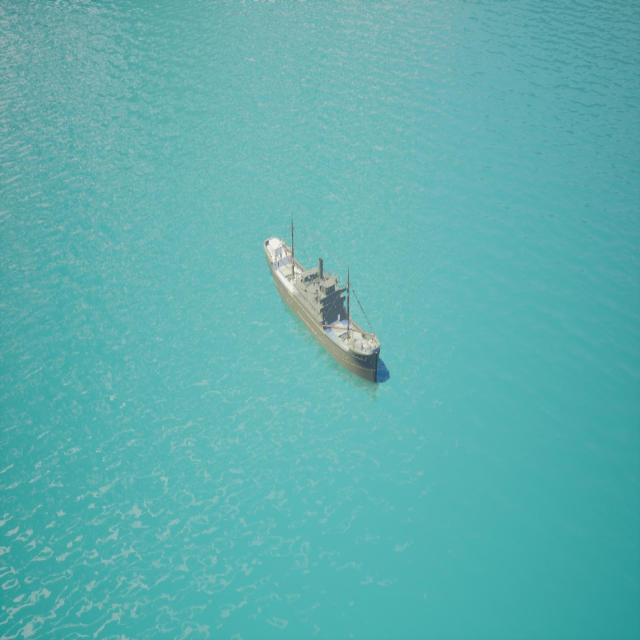fishing ship: (261, 234, 387, 386)
